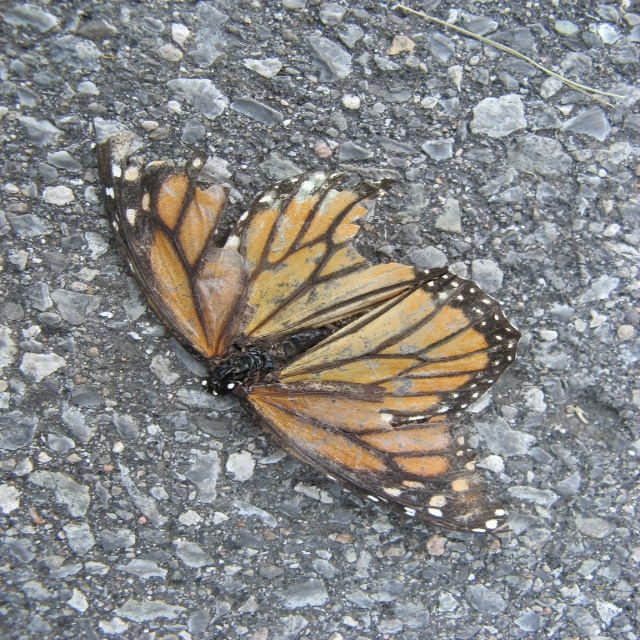Butterfly: (94, 172, 523, 524)
